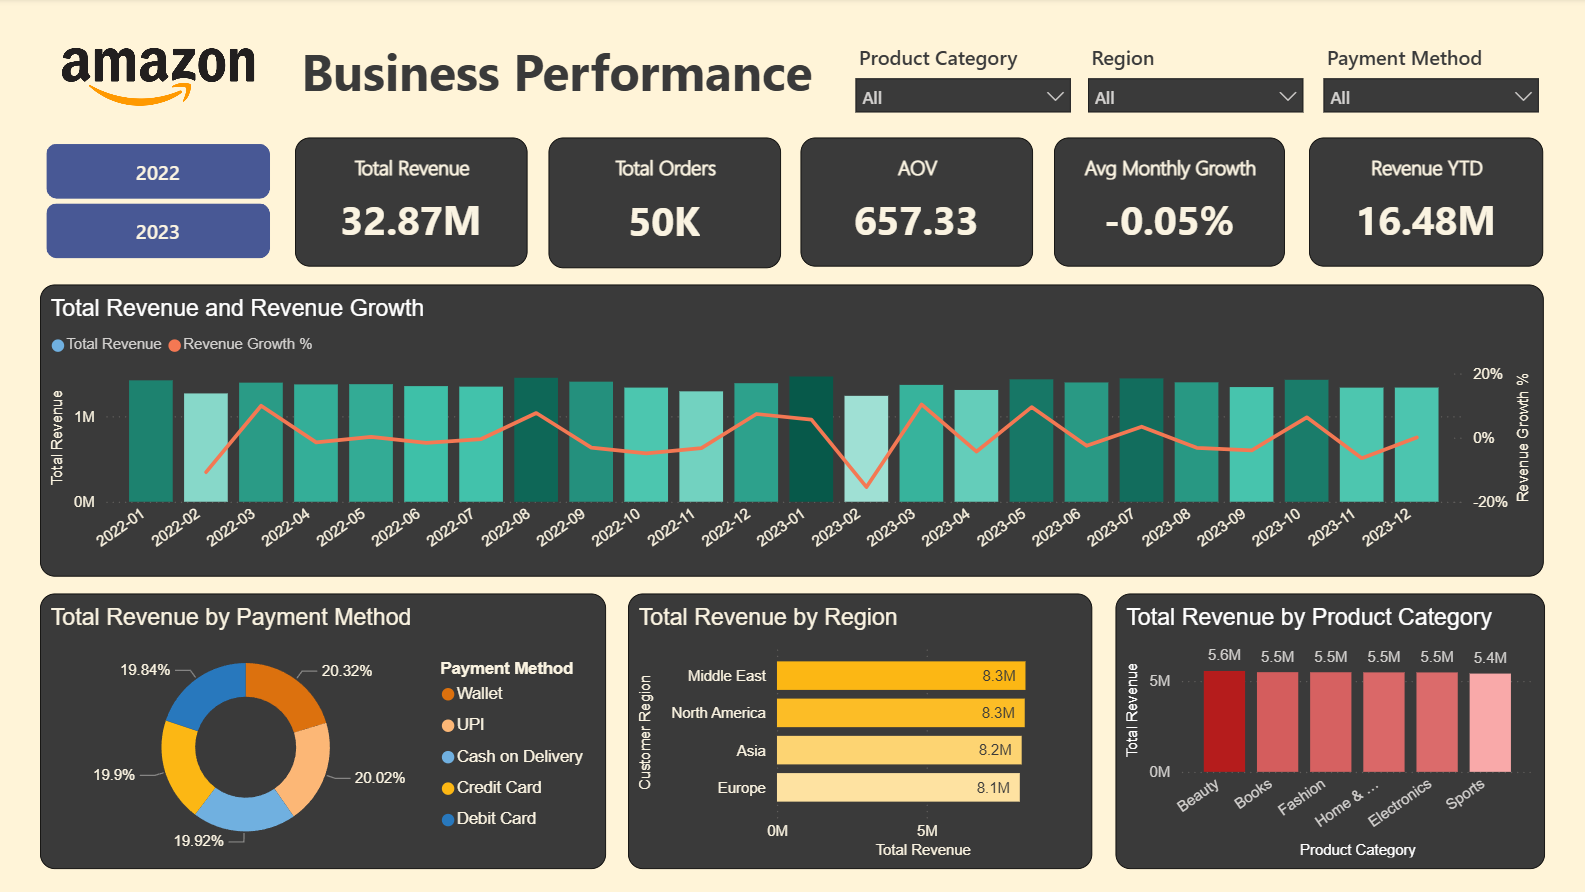

Layout of this report page (visuals, bound fields, positions):
{"tool":"powerbi","page":{"name":"Page 1","canvas":[1280,720],"ordinal":0},"visuals":[{"type":"lineClusteredColumnComboChart","title":"Total Revenue and Revenue Growth ","fields":{"Y":["amazon_sales_dataset.Total Revenue"],"Y2":["amazon_sales_dataset.Revenue Growth %"],"Category":["Date.YearMonth"]},"box":[33.8,231.2,1211.2,235],"z":0},{"type":"cardVisual","title":"Total Revenue","fields":{"Data":["amazon_sales_dataset.Total Revenue"]},"box":[238.8,112.5,187.5,103.8],"z":1000,"group":"g1"},{"type":"barChart","title":"Total Revenue by Region","fields":{"Category":["amazon_sales_dataset.customer_region"],"Y":["Sum(amazon_sales_dataset.total_revenue)"]},"box":[508,480,374,222],"z":1000},{"type":"donutChart","title":"Total Revenue by Payment Method","fields":{"Y":["Sum(amazon_sales_dataset.total_revenue)"],"Category":["amazon_sales_dataset.payment_method"]},"box":[34,480,456,222],"z":2000},{"type":"columnChart","title":"Total Revenue by Product Category","fields":{"Category":["amazon_sales_dataset.product_category"],"Y":["amazon_sales_dataset.Total Revenue"]},"box":[900,480,346,222],"z":3000},{"type":"slicer","title":"Region","fields":{"Values":["amazon_sales_dataset.payment_method"]},"box":[1058.8,31.2,187.5,62.5],"z":4000},{"type":"advancedSlicerVisual","fields":{"Values":["Date.Year"]},"box":[33.8,112.5,190,103.8],"z":5000},{"type":"cardVisual","title":"Total Orders","fields":{"Data":["amazon_sales_dataset.Total Orders"]},"box":[443.6,112.5,187.5,105],"z":5000,"group":"g1"},{"type":"slicer","title":"Region","fields":{"Values":["amazon_sales_dataset.customer_region"]},"box":[868.8,31.2,187.5,62.5],"z":6000},{"type":"cardVisual","title":"AOV","fields":{"Data":["amazon_sales_dataset.AOV"]},"box":[646,112.5,187.5,103.8],"z":6000,"group":"g1"},{"type":"group","id":"g1","title":"Group 1","box":[238.8,112.5,1006.2,105],"z":7000},{"type":"cardVisual","title":"Avg Monthly Growth","fields":{"Data":["amazon_sales_dataset.Avg Monthly Growth %"]},"box":[849.8,112.5,186.2,103.8],"z":7000,"group":"g1"},{"type":"textbox","title":"Business Performance","box":[239.2,31.4,427.7,62.8],"z":8000},{"type":"slicer","title":"Region","fields":{"Values":["amazon_sales_dataset.product_category"]},"box":[681.2,31.2,187.5,62.5],"z":9000},{"type":"cardVisual","title":"Revenue YTD","fields":{"Data":["amazon_sales_dataset.Revenue YTD"]},"box":[1056,112.5,188.8,103.8],"z":9000,"group":"g1"},{"type":"image","box":[39.9,37.5,178.8,50.7],"z":10000}]}

Visuals, with their boxes in screenshot pixels (x1, y1, x2, y2), scaled from the page's 1280x720 canvas onto the 1585x892 screenshot:
"Total Revenue and Revenue Growth " lineClusteredColumnComboChart: region(42, 286, 1542, 578)
"Total Revenue" cardVisual: region(296, 139, 528, 268)
"Total Revenue by Region" barChart: region(629, 595, 1092, 870)
"Total Revenue by Payment Method" donutChart: region(42, 595, 607, 870)
"Total Revenue by Product Category" columnChart: region(1114, 595, 1543, 870)
"Region" slicer: region(1311, 39, 1543, 116)
advancedSlicerVisual - Date.Year: region(42, 139, 277, 268)
"Total Orders" cardVisual: region(549, 139, 781, 269)
"Region" slicer: region(1076, 39, 1308, 116)
"AOV" cardVisual: region(800, 139, 1032, 268)
"Group 1" group: region(296, 139, 1542, 269)
"Avg Monthly Growth" cardVisual: region(1052, 139, 1283, 268)
"Business Performance" textbox: region(296, 39, 826, 117)
"Region" slicer: region(844, 39, 1076, 116)
"Revenue YTD" cardVisual: region(1308, 139, 1541, 268)
image: region(49, 46, 271, 109)
